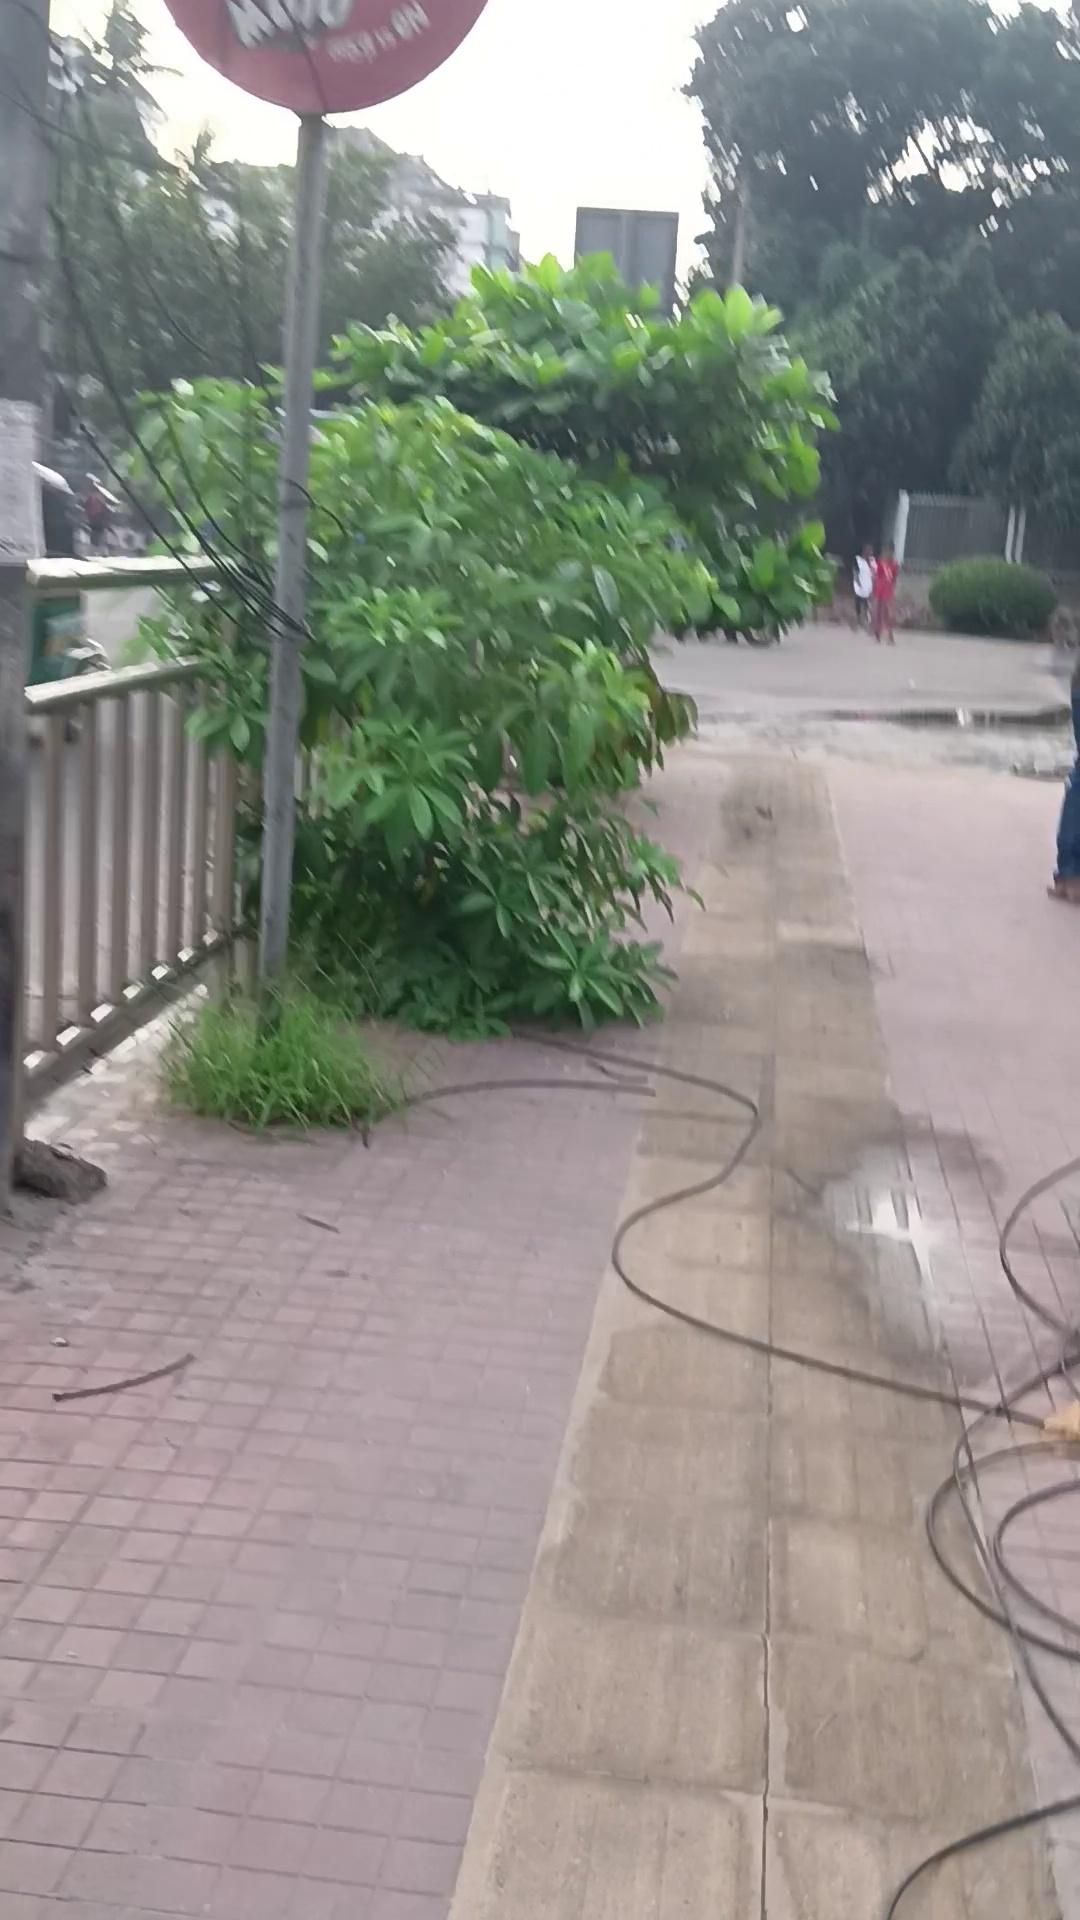Muddy road: (1046, 659, 1079, 902), (870, 539, 899, 645), (851, 545, 876, 634)
Obstacle: (252, 113, 330, 1038)
Potted-plant: (0, 735, 1065, 1919)
Railroad-crossing: (822, 1163, 984, 1299)
